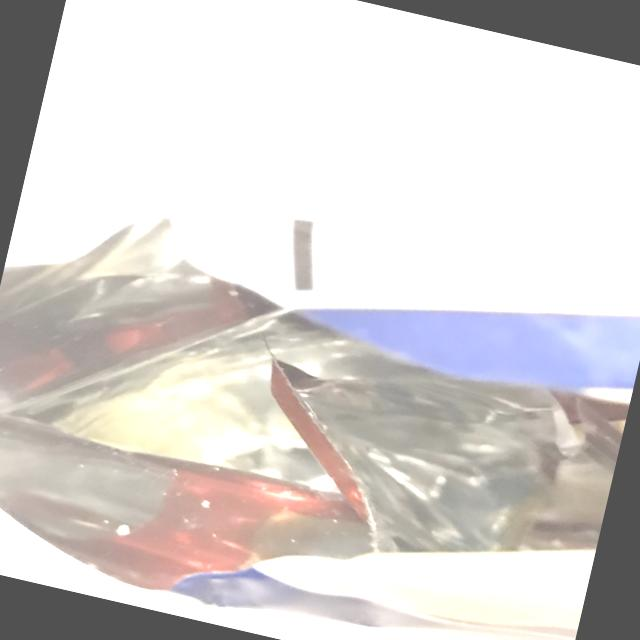Plastic: (0, 105, 640, 640)
